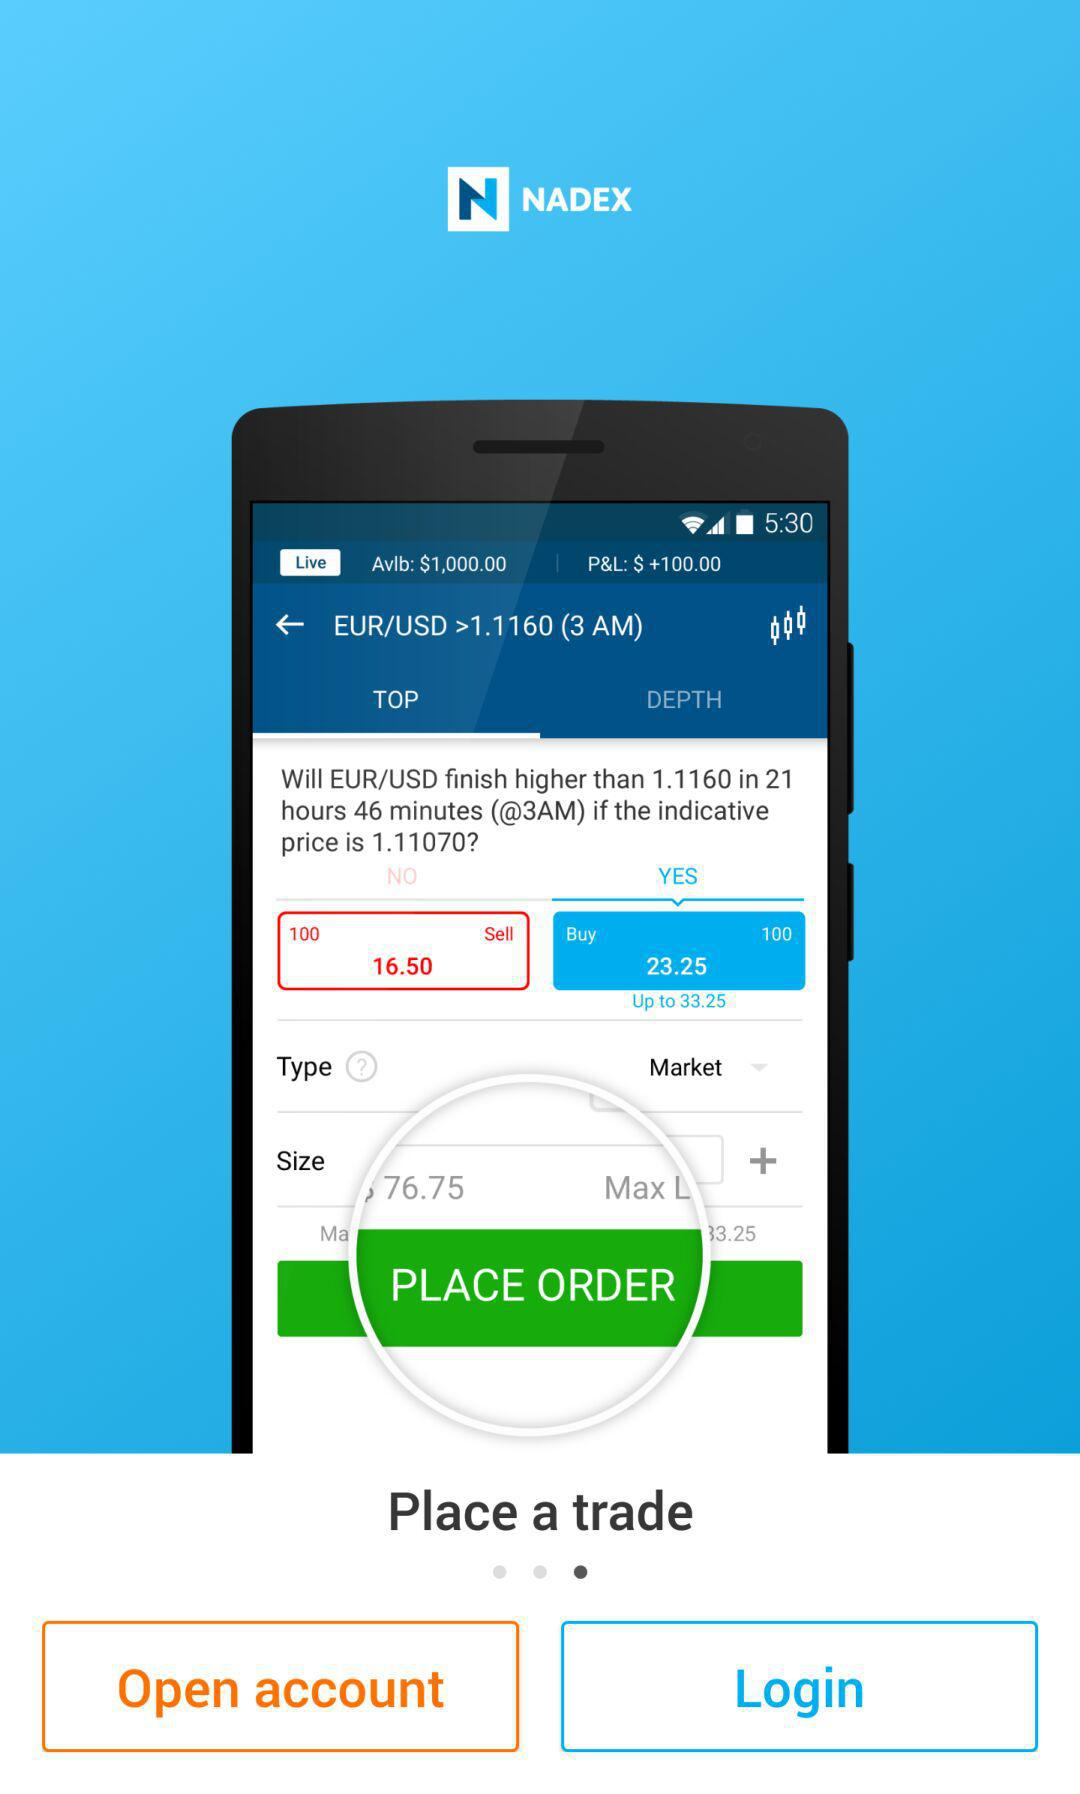Image: (232, 399, 855, 1454), (448, 167, 510, 233)
PageIndicator: (492, 1565, 588, 1580)
Text: (391, 1488, 693, 1531), (521, 187, 633, 213)
TextButton: (42, 1620, 520, 1752), (561, 1621, 1039, 1753)
